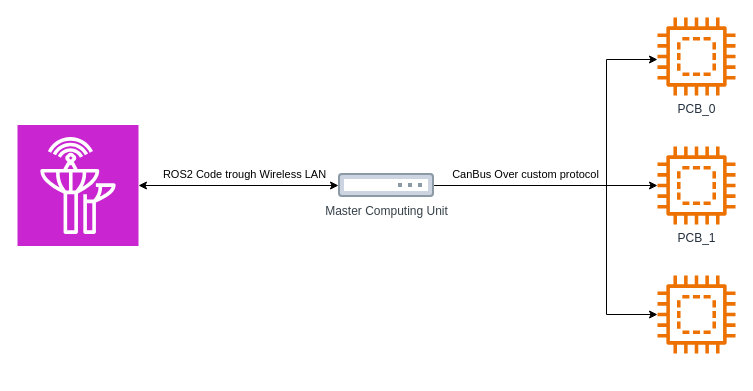
Image size: 753x391. Some labels were removed from this diagram. The shapes that lost their labels are listed below. From the top down, each one's box as (x1, y1, x2, y2) in pixels, then its label:
(16, 124, 138, 246): Base Station
(657, 275, 735, 353): PCB_*
